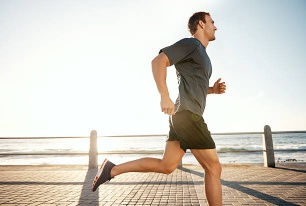male: (187, 10, 220, 46)
